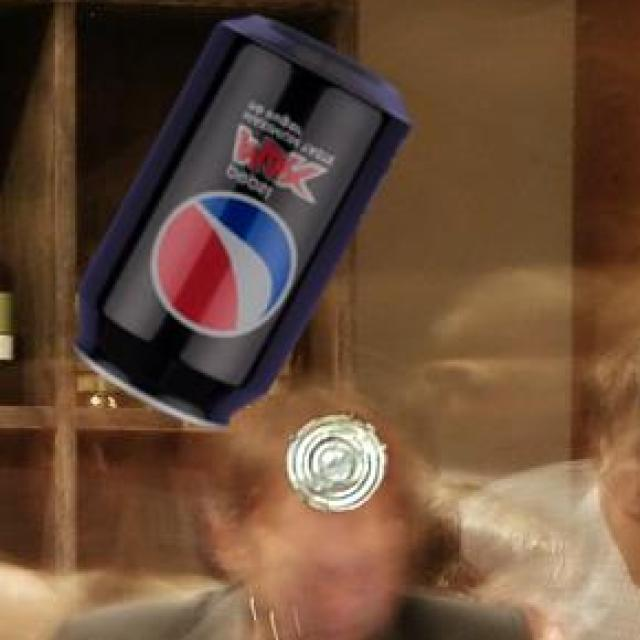logam: (78, 12, 414, 425), (290, 409, 394, 509)
